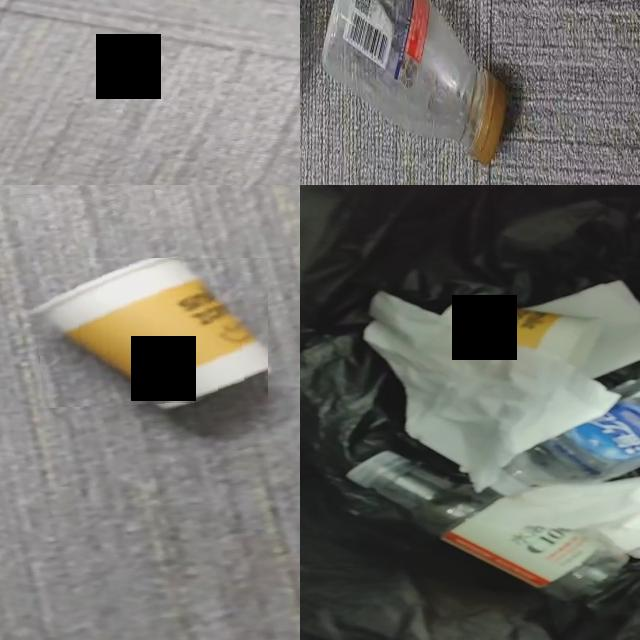bottle: (347, 451, 628, 595), (323, 0, 505, 164), (490, 378, 640, 496)
dixie_cup: (36, 258, 268, 405), (442, 302, 600, 368)
paper: (364, 294, 618, 490), (486, 477, 640, 558), (529, 280, 640, 378)
